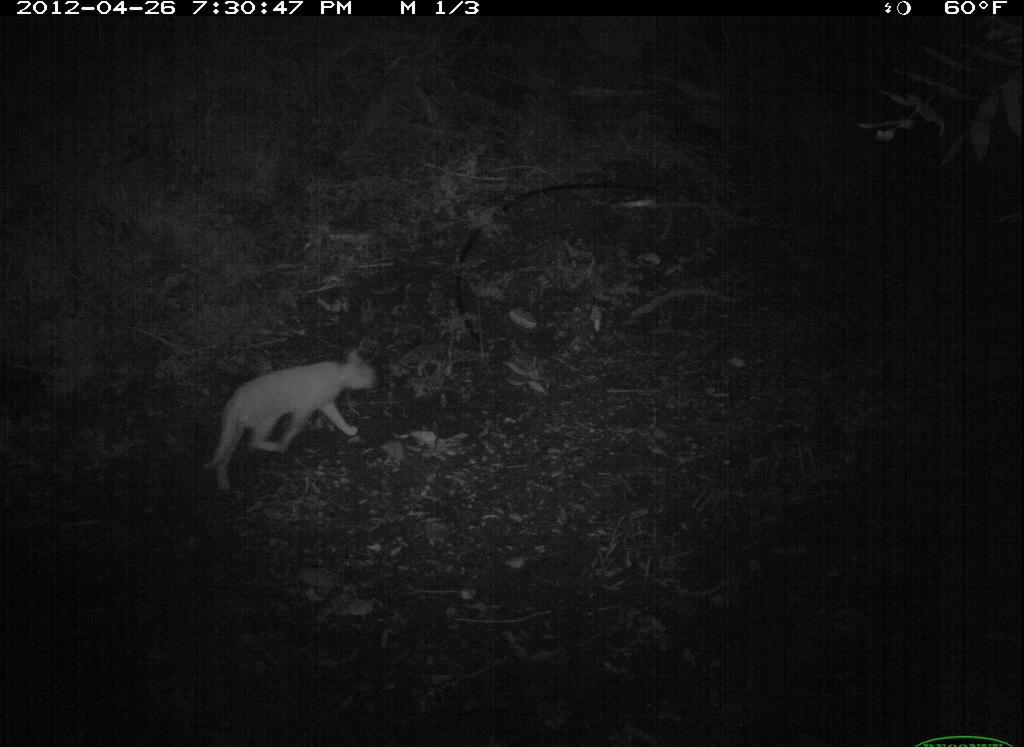cat: (178, 340, 404, 493)
